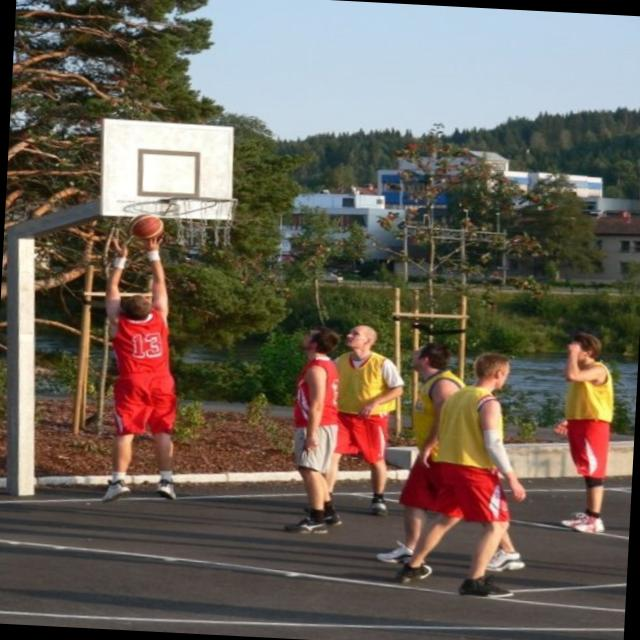Ball: (131, 212, 170, 243)
